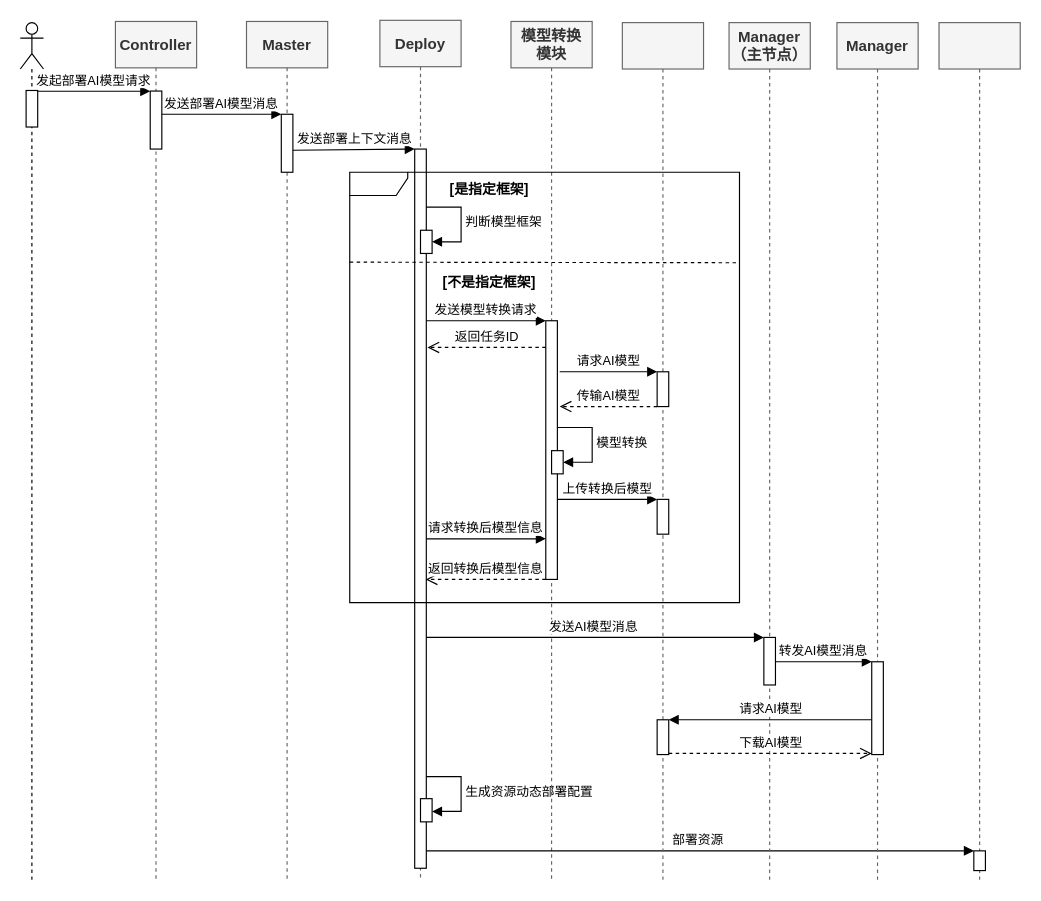
This 1041x901 diagram has some shape labels left out. The shapes that lost their labels are listed below. From the top down, each one's box as (x1, y1, x2, y2) in pixels, then its label:
(349, 171, 740, 603): alt
(621, 21, 704, 881): MinIO
(938, 21, 1020, 880): K8S API Server
